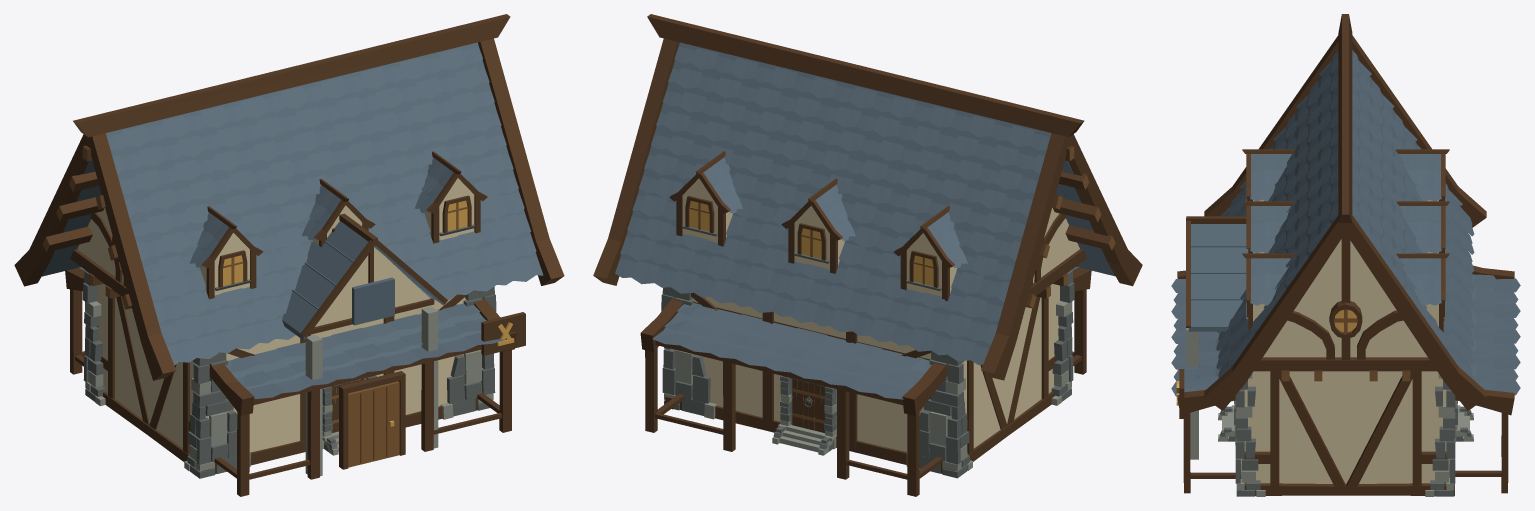
Rendered from guild_hall.glb.
3 views of the same model, side by side, from view 1: azimuth 30°, elevation 25°; view 2: azimuth 150°, elevation 25°; view 3: azimuth 270°, elevation 25° (orthographic). The views are drawn at different scales.
Visible parts, largest first — view 1: guild_hall; view 2: guild_hall; view 3: guild_hall.
Part boxes in pixels (x1,y1,x2,y2): guild_hall: (14, 14, 564, 496); guild_hall: (593, 14, 1142, 496); guild_hall: (1171, 14, 1520, 496).
Bounding box in the file's own units: 15 × 11 × 11.
